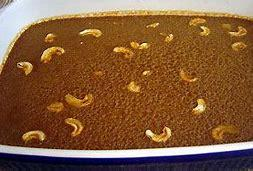Watalappam: (8, 12, 250, 145)
